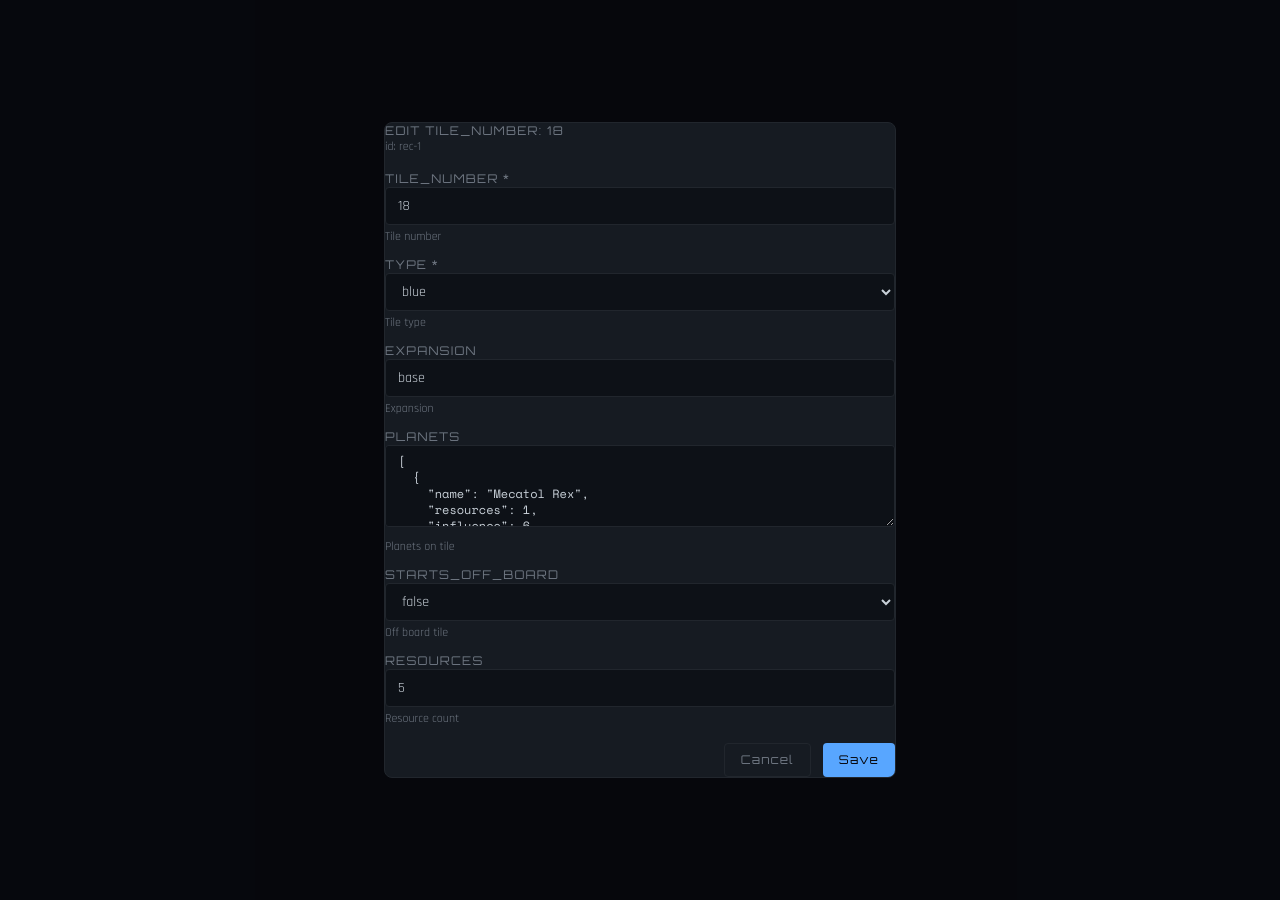
it: AdminRecordModal › Save button shows Saving... while submitting
Click the button "Save" at (859, 760), box [823,743,895,777]
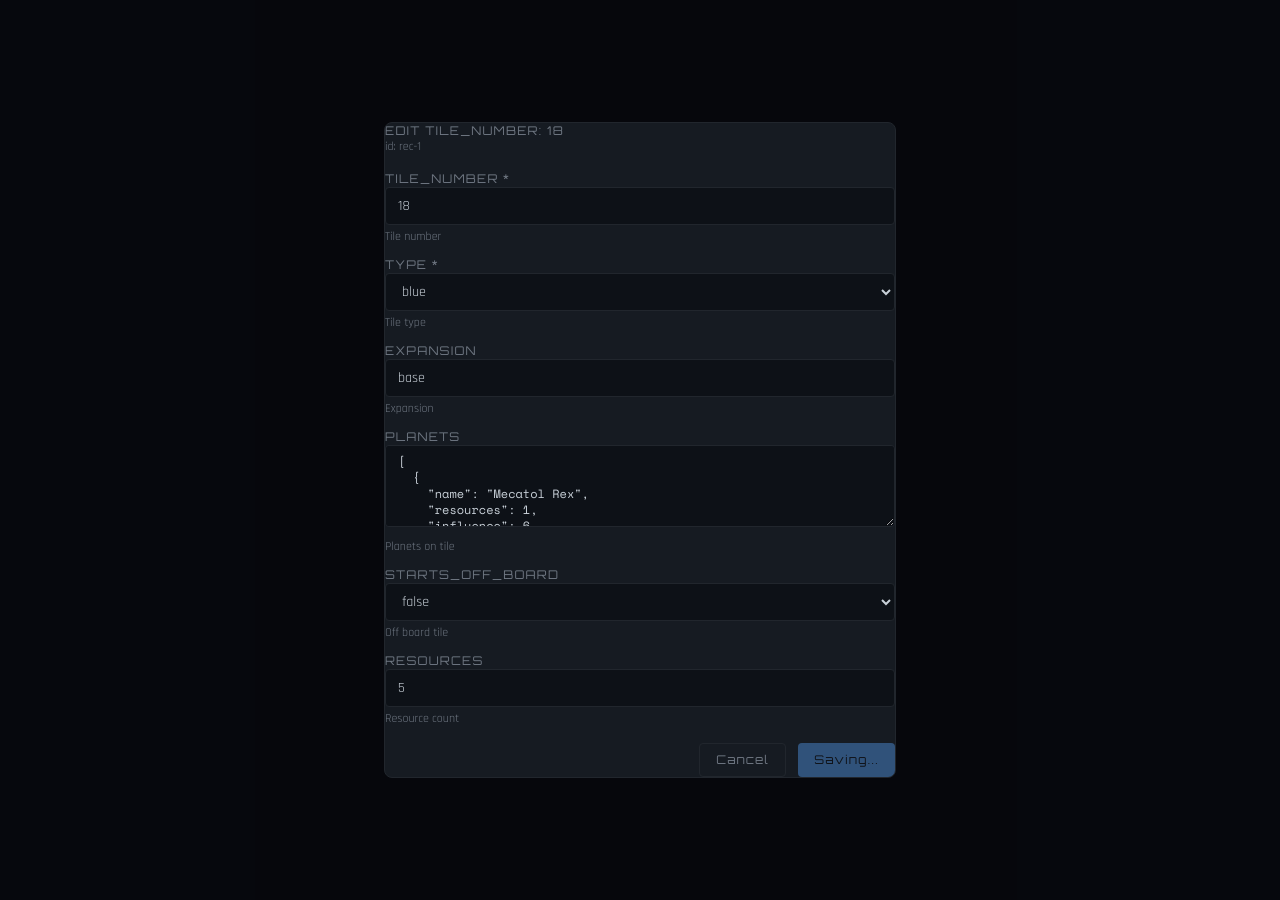
Expected: the button "Saving..." is shown, [798,743,895,777]
